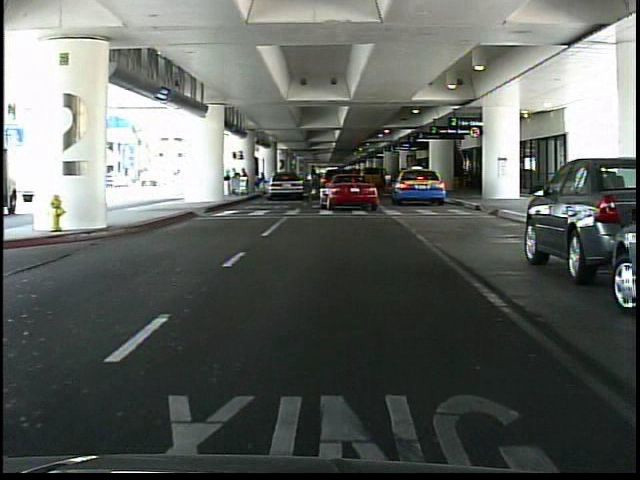person: (308, 165, 320, 199)
